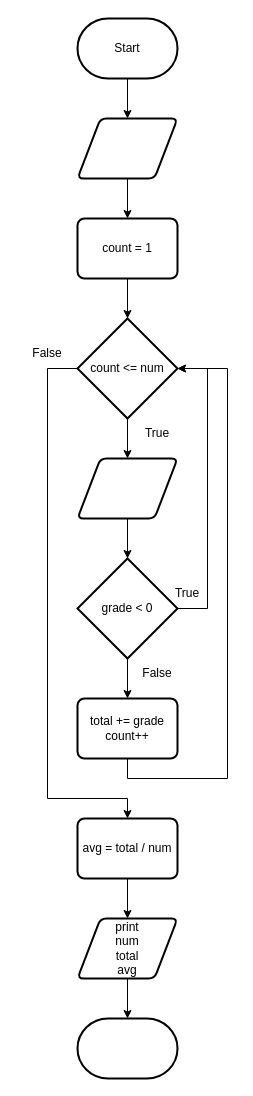
Image size: 253x1096. Some labels were removed from this diagram. The centre of each missing label's shape, as x and y in pixels:
End: point 127,1048
input grade: point 127,488
input num: point 127,148
